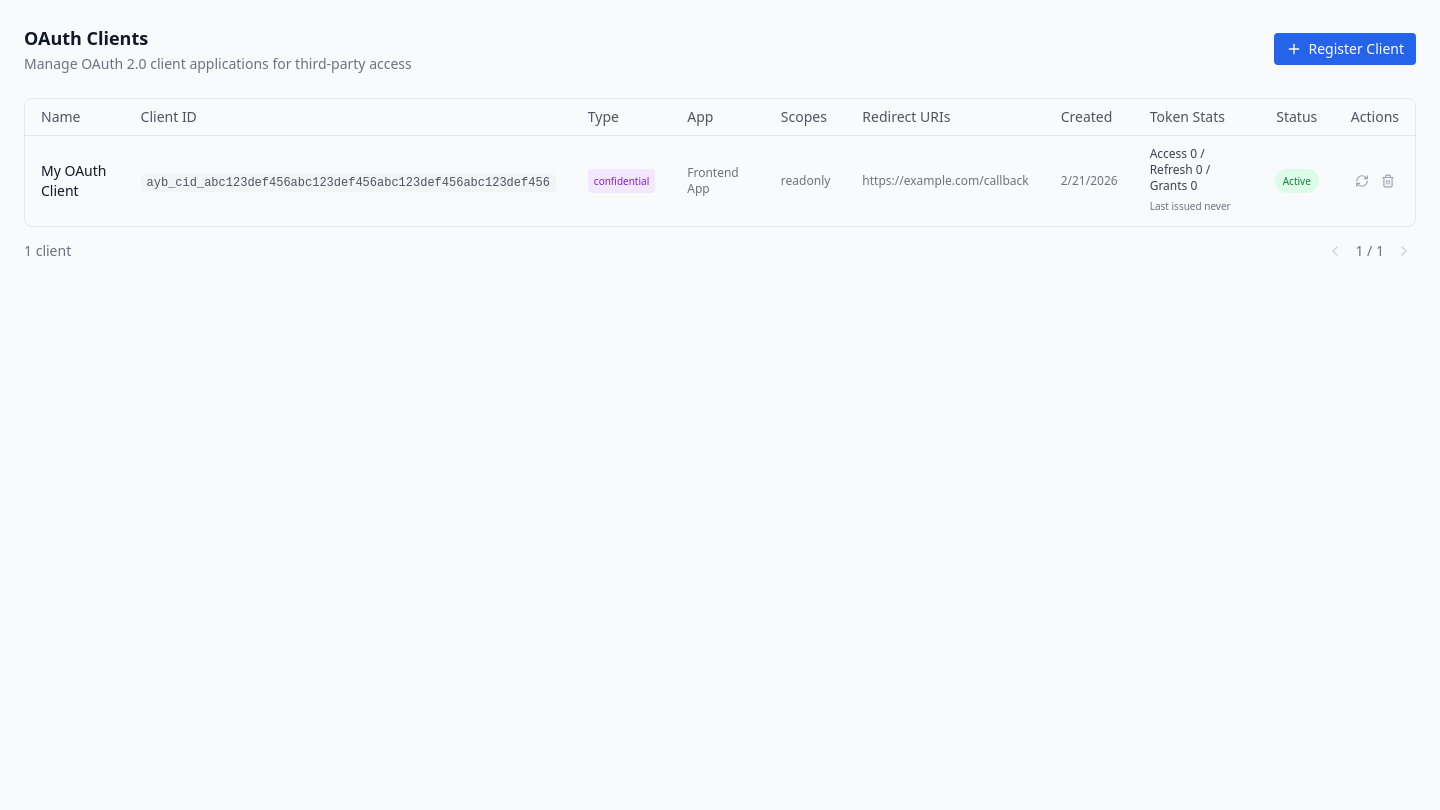
Test: OAuthClients › cancel on revoke dialog closes it
The image size is (1440, 810).
Expected: the text "My OAuth Client" is shown, [41,161,106,200]
What coordinates should you click on to do the following:
click the button titled "Revoke client"
I would click on:
 (1388, 181)
Its box is [1377,170,1399,192].
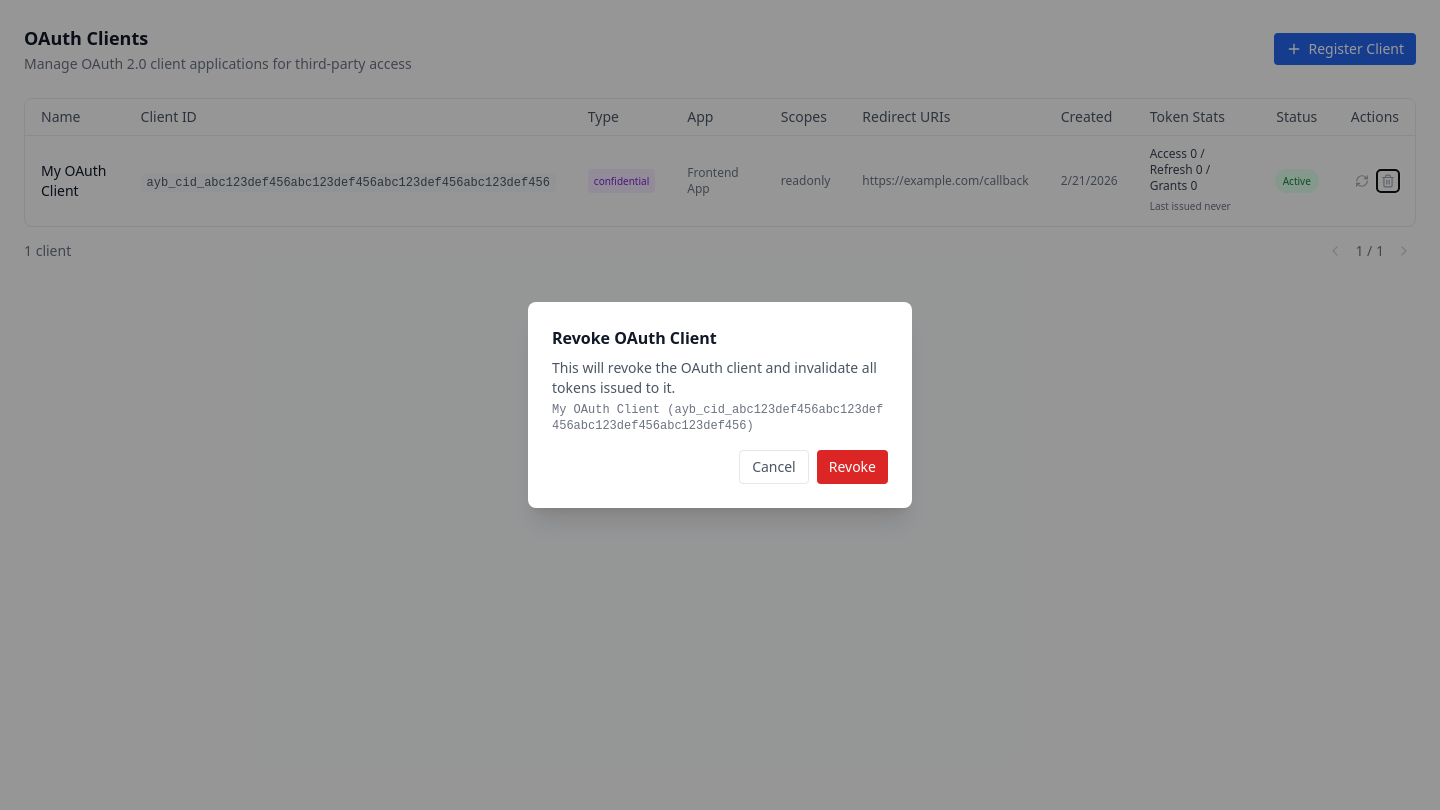
Result: the heading "Revoke OAuth Client" is shown at [552,327,717,349]
What coordinates should you click on to do the following:
click the button "Cancel"
I would click on:
 (774, 467)
Its box is [739,450,809,484].
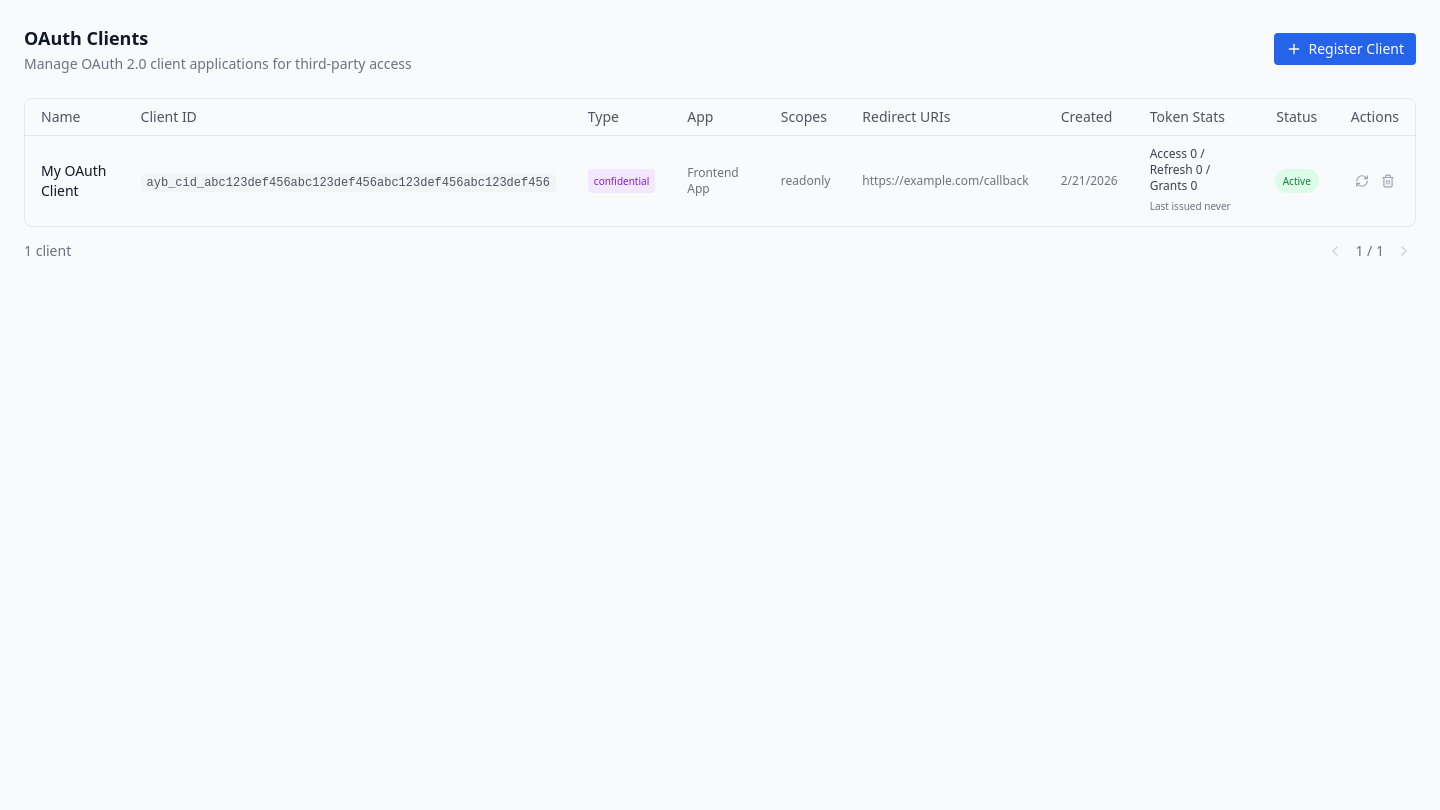
Result: the heading "Revoke OAuth Client" is gone
